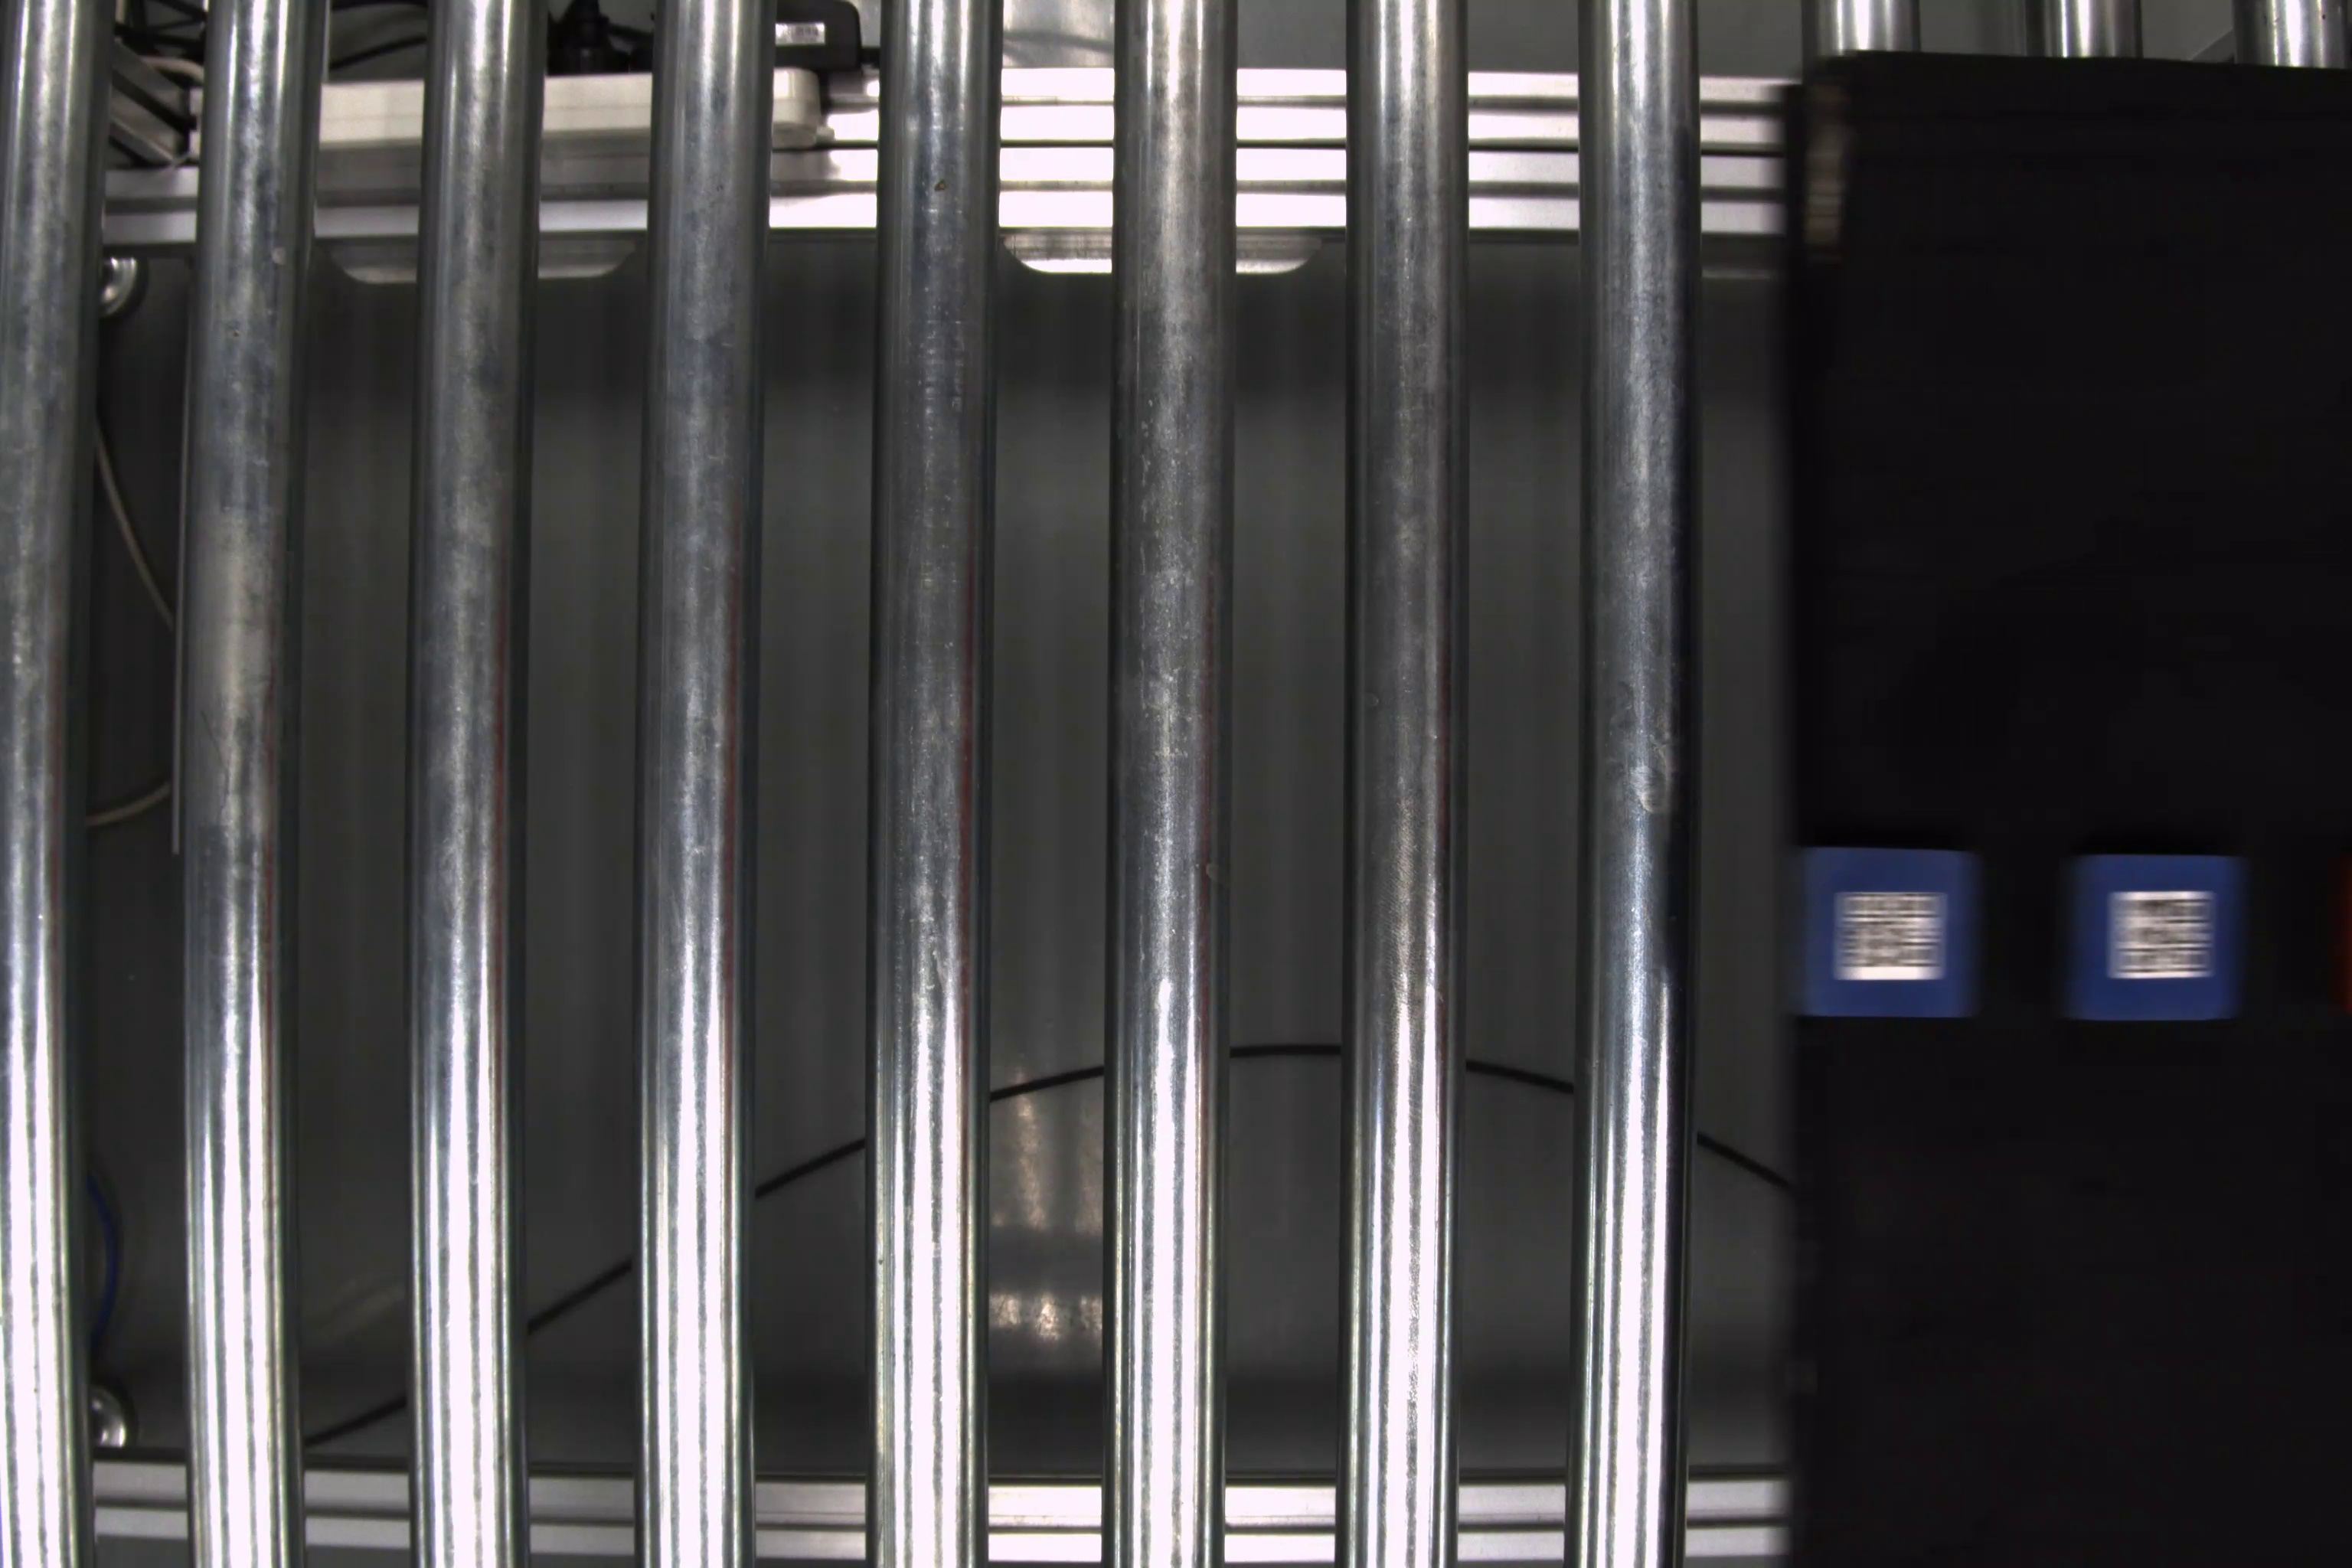wood: (1788, 843, 1984, 1022), (2065, 847, 2250, 1025)
